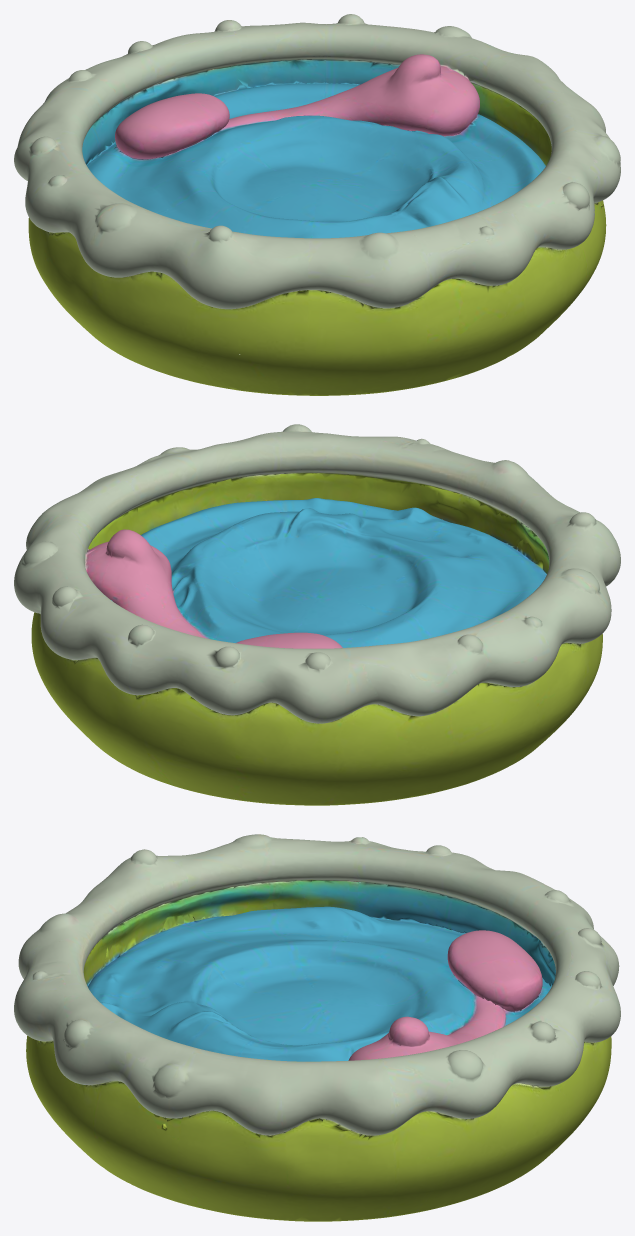
The model's file is env_nest_pond_01.glb.
3 views of the same model, one above another, from view 1: azimuth 30°, elevation 25°; view 2: azimuth 150°, elevation 25°; view 3: azimuth 270°, elevation 25° (orthographic). The views are drawn at different scales.
Visible parts, largest first — view 1: tripo_node_18ec9f73-bf3b-4533-a45a-9eee20aea76a; view 2: tripo_node_18ec9f73-bf3b-4533-a45a-9eee20aea76a; view 3: tripo_node_18ec9f73-bf3b-4533-a45a-9eee20aea76a.
Boxes of the visible parts, bbox=[...] form: tripo_node_18ec9f73-bf3b-4533-a45a-9eee20aea76a: bbox=[14, 14, 620, 395]; tripo_node_18ec9f73-bf3b-4533-a45a-9eee20aea76a: bbox=[14, 424, 620, 805]; tripo_node_18ec9f73-bf3b-4533-a45a-9eee20aea76a: bbox=[14, 834, 620, 1221].
Size of the model in its own units: 1.48 by 0.5 by 1.47.
Materials: 1 (1 with a texture image).
